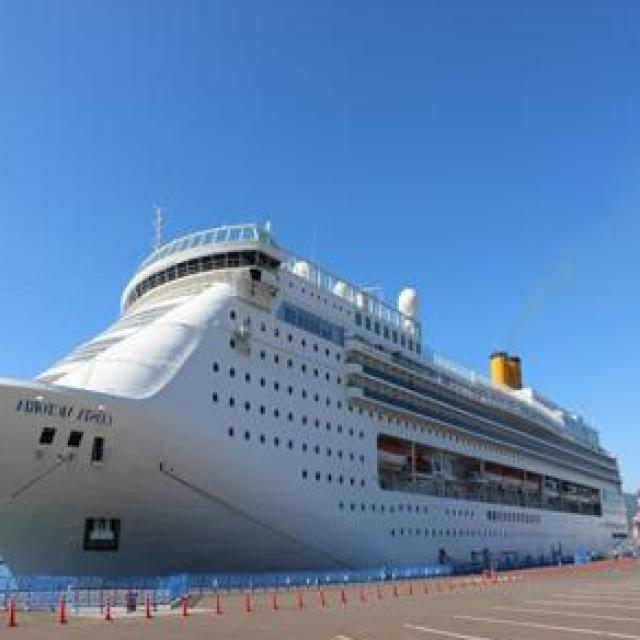passenger ship: (0, 215, 625, 594)
